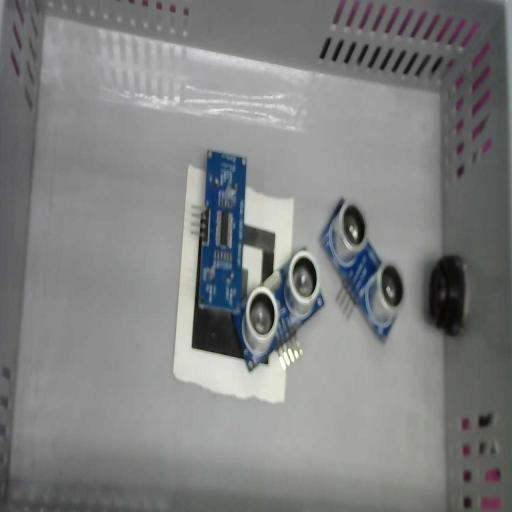QR: (172, 164, 292, 402)
ultrasonic_hc-sr04: (320, 198, 405, 344), (237, 247, 325, 371), (198, 148, 247, 316)
